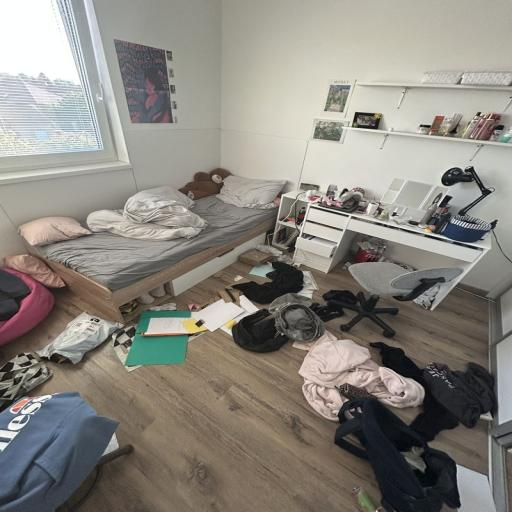bottle: (328, 262, 464, 338)
door: (334, 398, 460, 512)
person: (29, 196, 278, 321)
phone: (294, 204, 490, 310)
